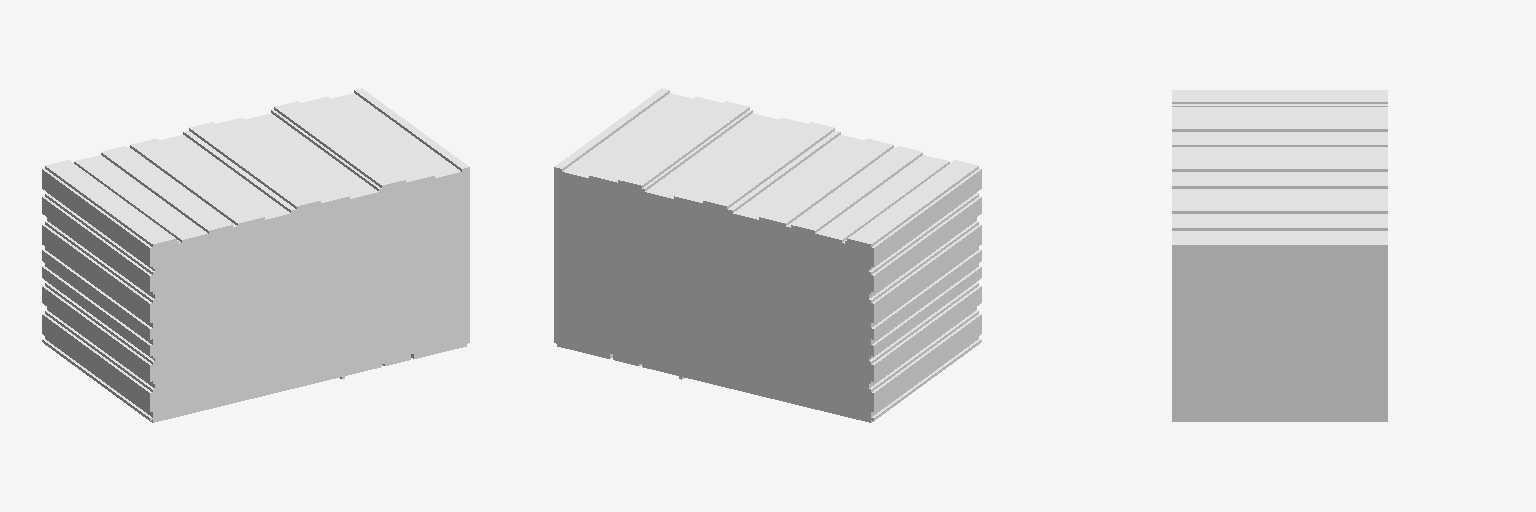
Rendered from EndPlatformV2.obj.
The picture shows the model from 3 angles: view 1: azimuth 30°, elevation 25°; view 2: azimuth 150°, elevation 25°; view 3: azimuth 270°, elevation 25°; orthographic projection.
Parts seen in each view (by area): view 1: object 1; view 2: object 1; view 3: object 1.
Part boxes in pixels (x1,y1,x2,y2): object 1: (42,88,469,422); object 1: (554,88,981,422); object 1: (1172,90,1387,421).
Bounding box in the file's own units: 12 × 6.6 × 7.